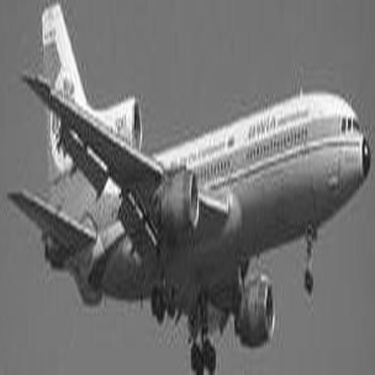airplane: (1, 2, 370, 371)
